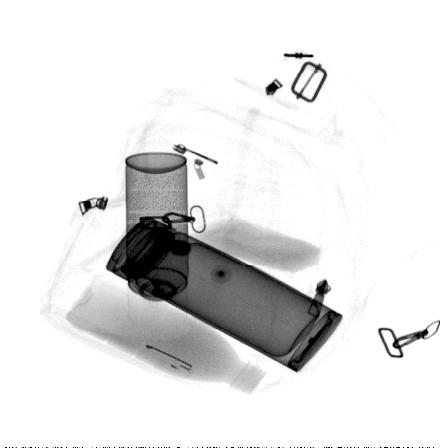Sprayer: (124, 150, 191, 326)
